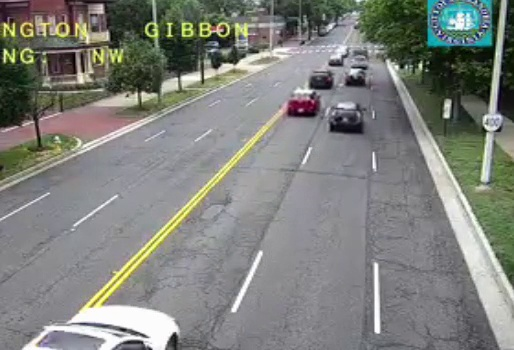car: (330, 102, 362, 129), (287, 91, 319, 116), (344, 68, 366, 86), (309, 71, 332, 88)
